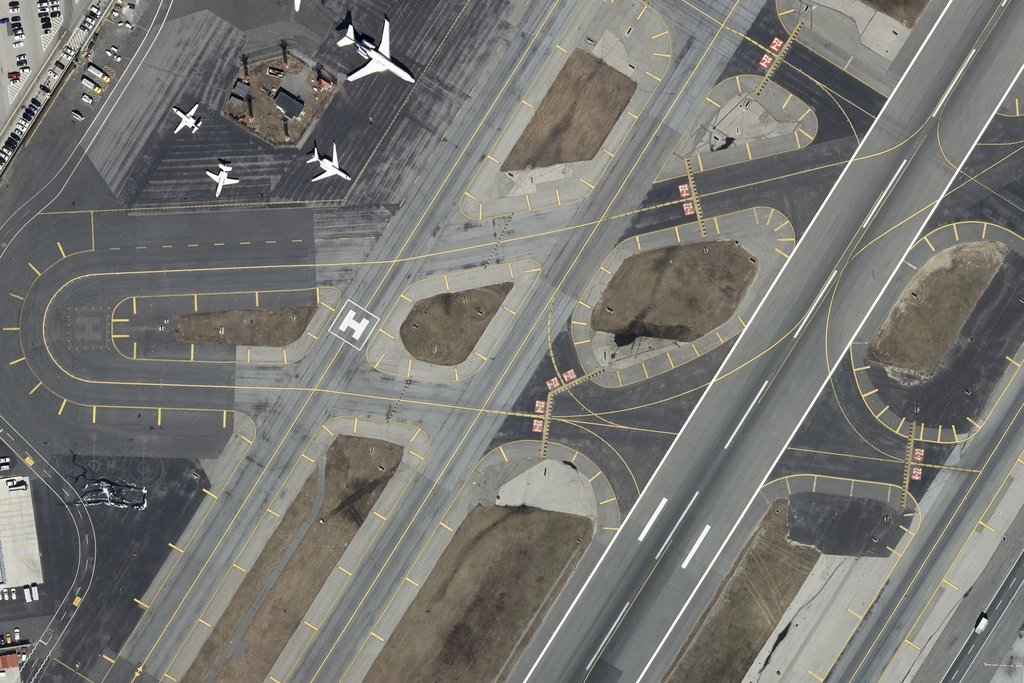aircraft: (338, 16, 426, 92), (305, 141, 356, 189), (204, 156, 240, 201), (171, 100, 204, 137)
